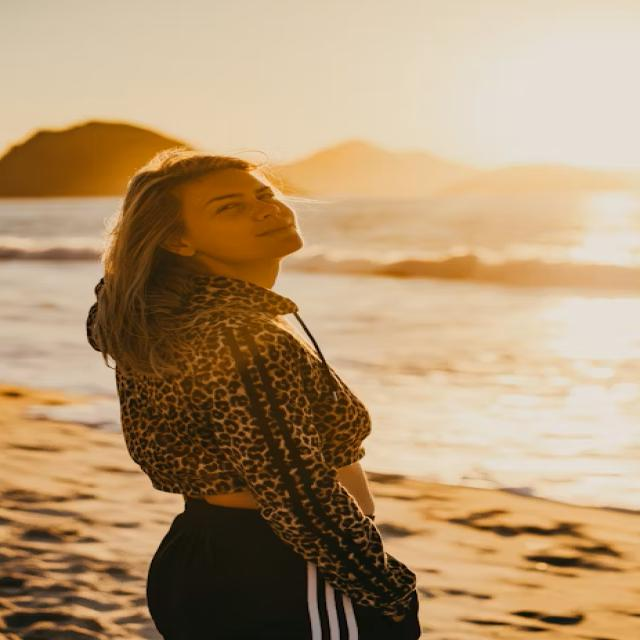Edited images: (63, 135, 463, 640)
